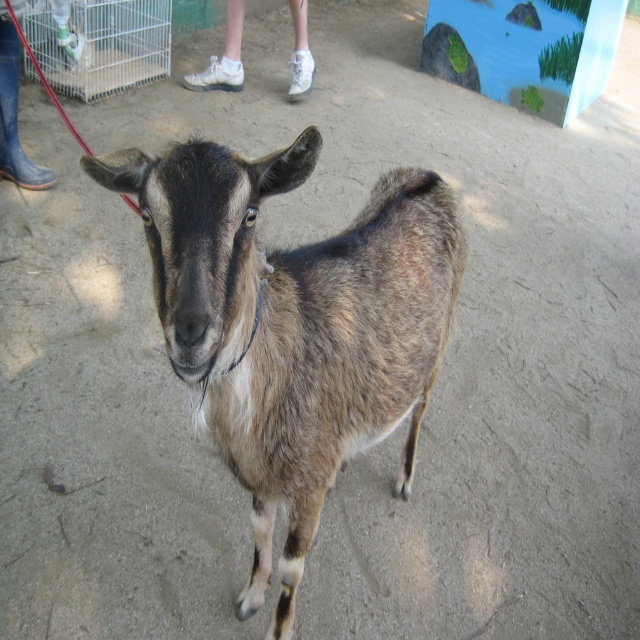Goat: (80, 122, 471, 639)
